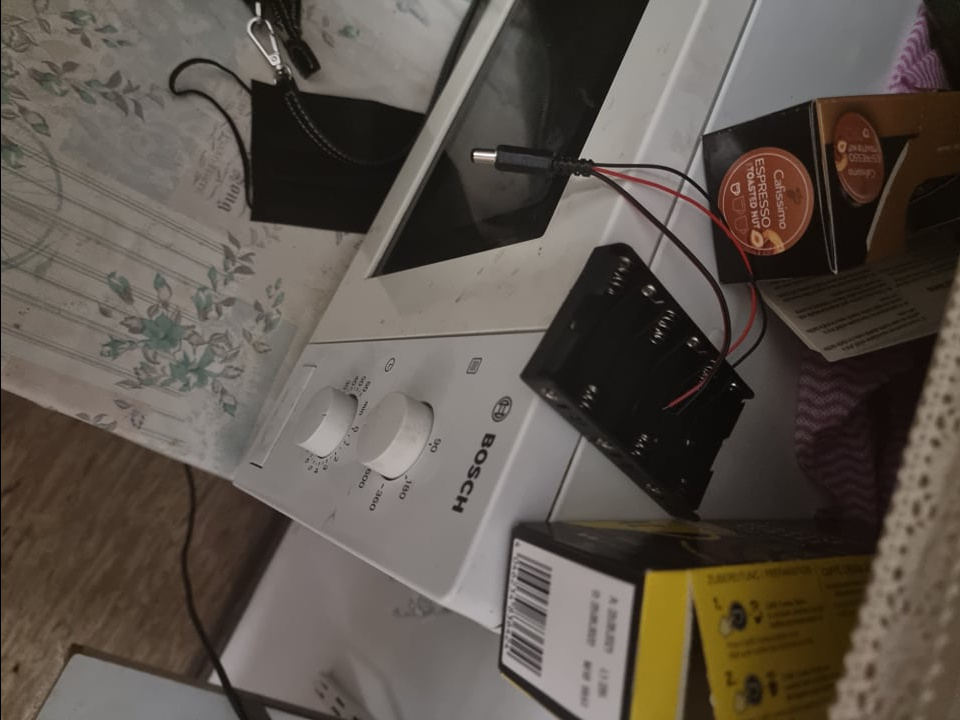BATTERY BOX: (519, 245, 755, 519)
